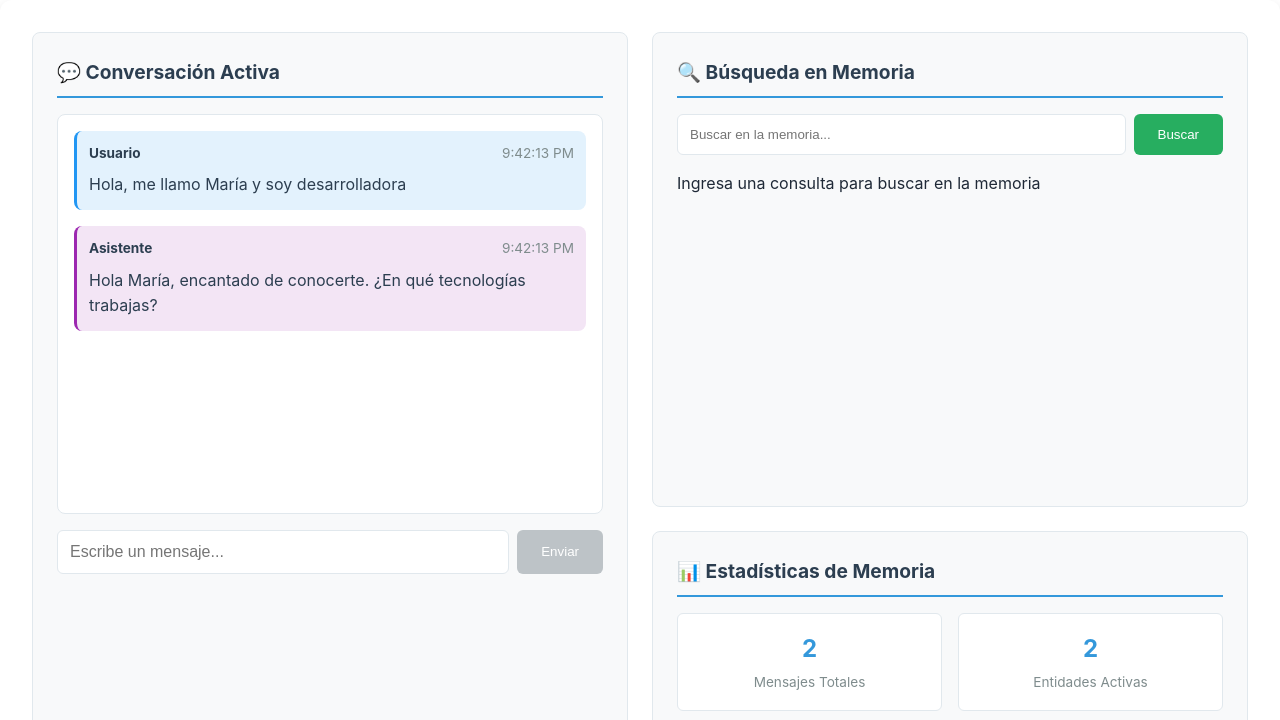
Test: Lesson03Implementation › LiveDemo Component › handles enter key for search input
In the field with placeholder "Buscar en la memoria...": x=901, y=134 [677,114,1126,155], type "desarrolladora"
Then press Enter
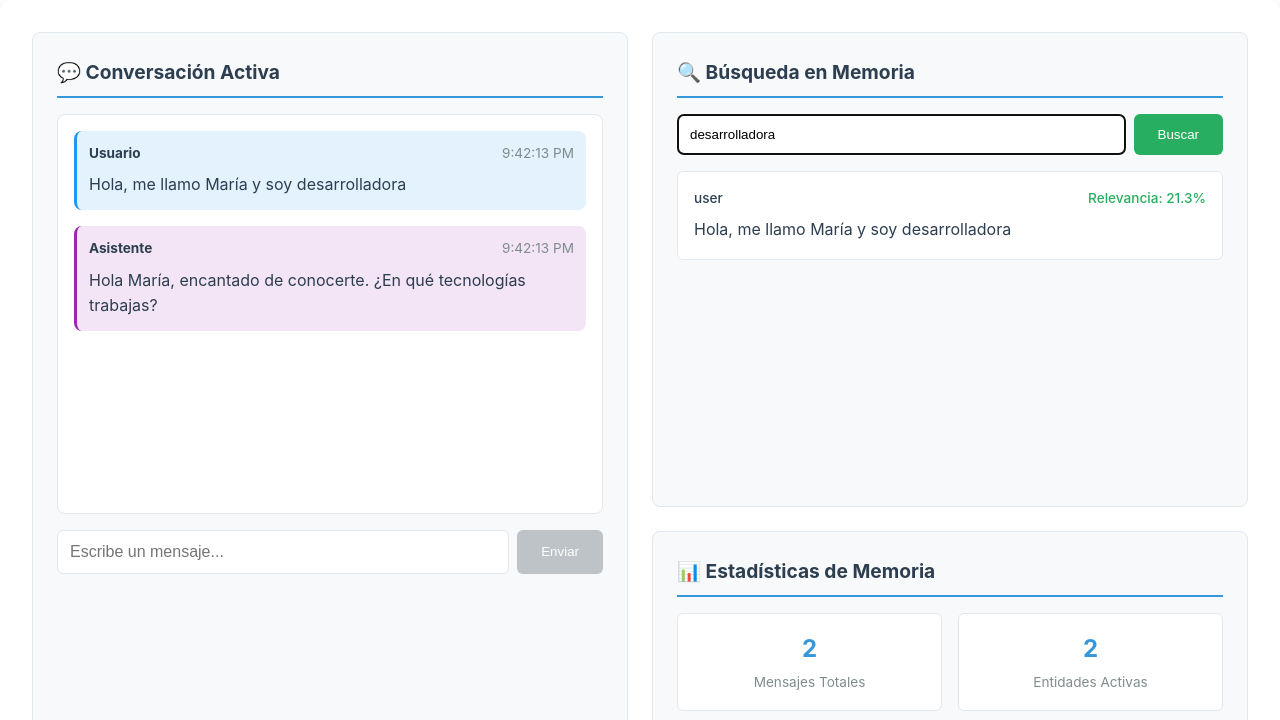
Expected: the text "Relevancia: 21.3%" is shown, [1088,188,1206,210]
